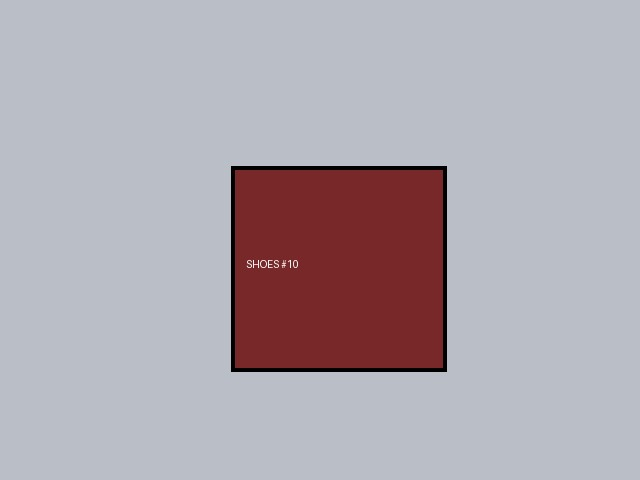shoes: (231, 166, 446, 371)
